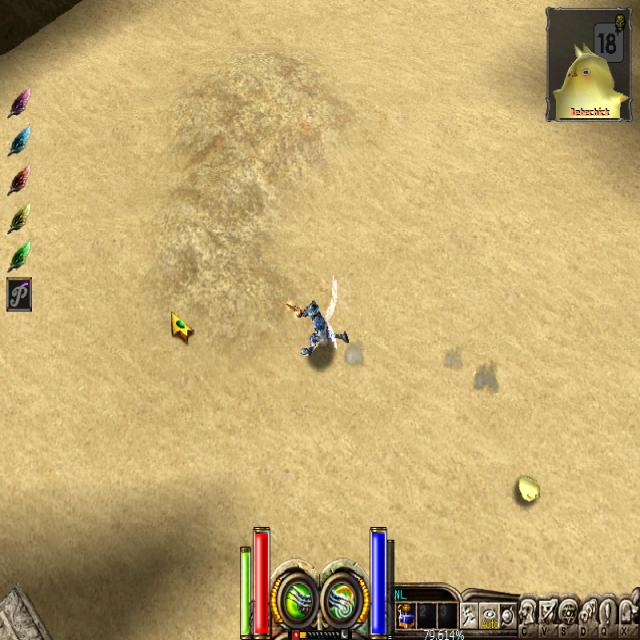monster: (504, 458, 548, 510)
